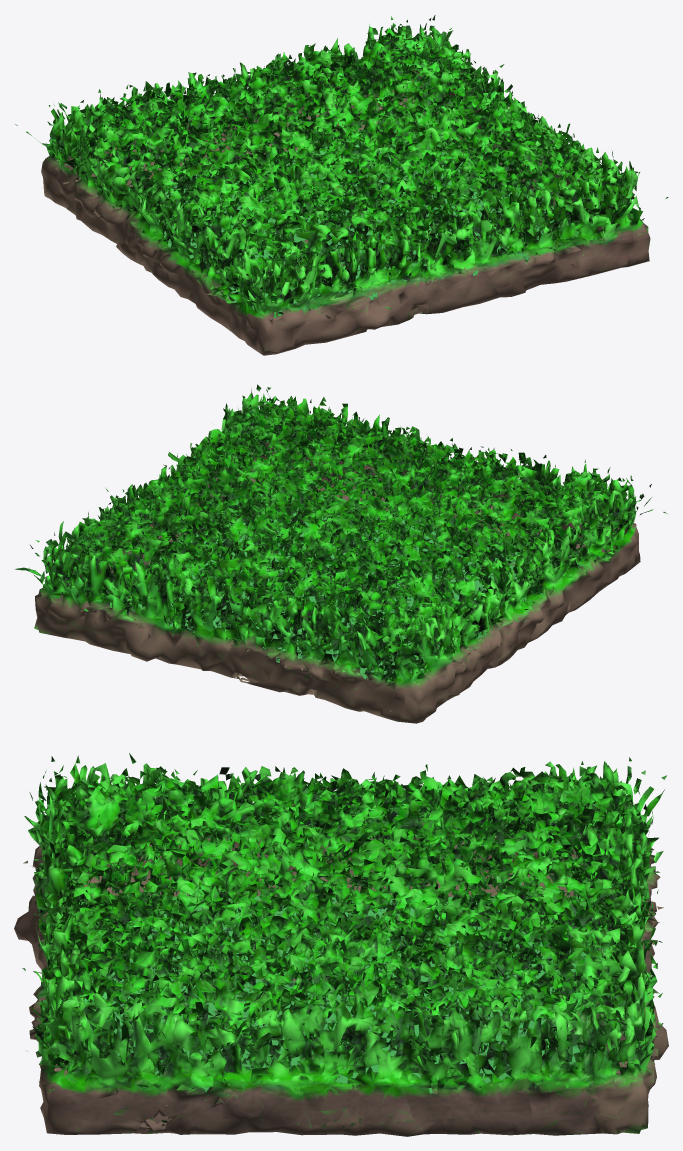
The model's file is turf.glb.
3 renders of one model, top to bottom at view 1: azimuth 30°, elevation 25°; view 2: azimuth 150°, elevation 25°; view 3: azimuth 270°, elevation 25°, orthographic. The views are drawn at different scales.
Parts seen in each view (by area): view 1: turf; view 2: turf; view 3: turf.
Part boxes in pixels (x1,y1,x2,y2): turf: (15, 15, 668, 355); turf: (14, 384, 667, 723); turf: (14, 753, 668, 1136).
Size of the model in its own units: 0.3339 by 0.0718 by 0.3222.
Materials: 1 (1 with a texture image).
